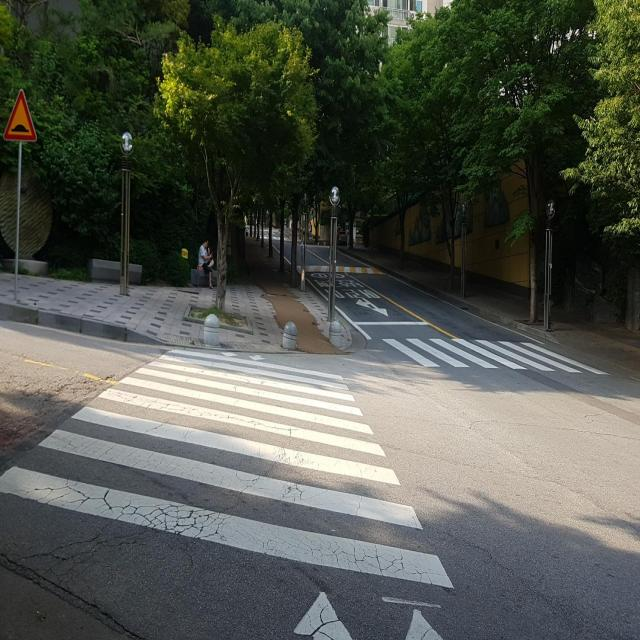횡단보도: (0, 345, 456, 640), (379, 336, 612, 376)
